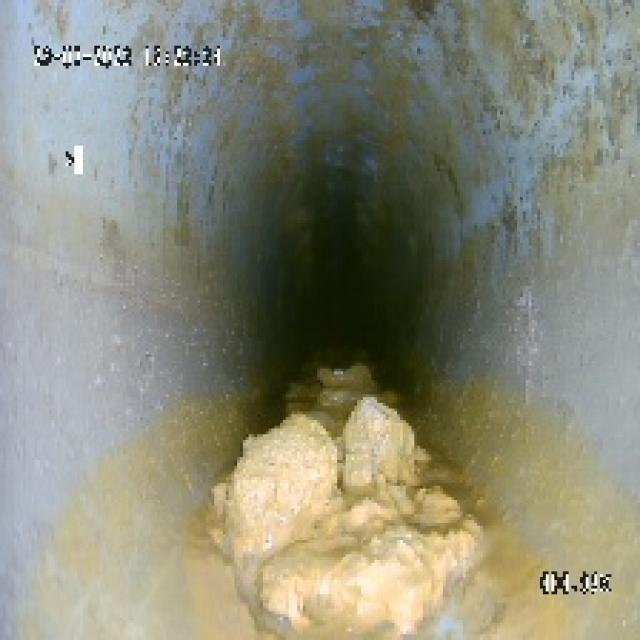sluge accumulation: (192, 334, 512, 629)
